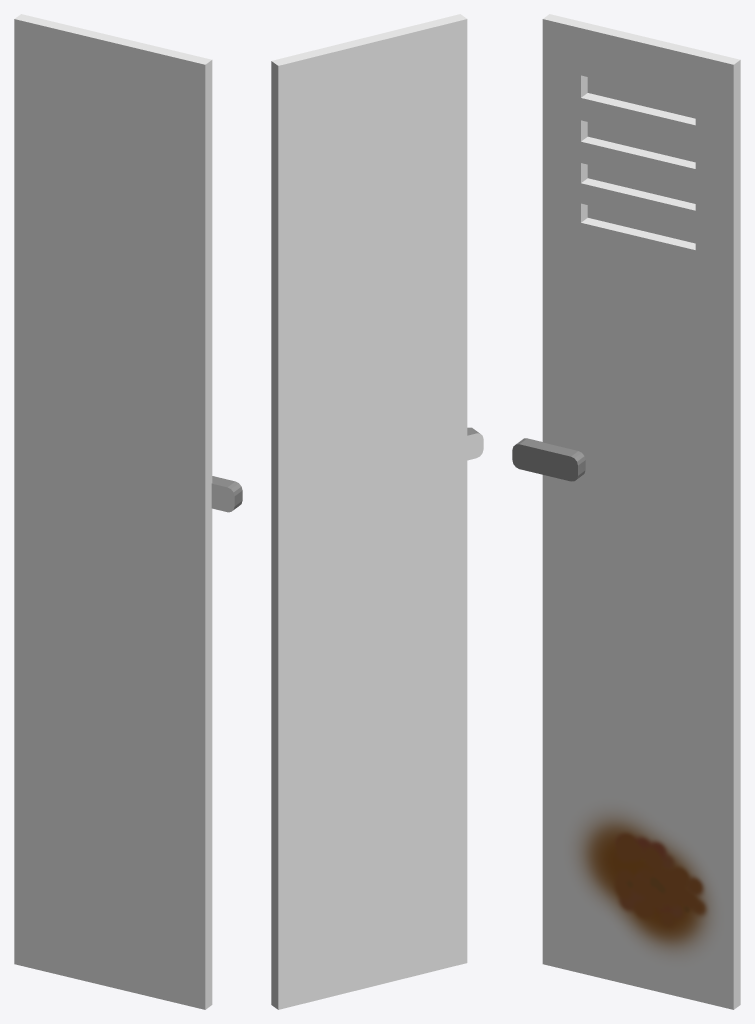
The model's file is Lockers for changing rooms door.fbx.
3 views of the same model, side by side, from view 1: azimuth 90°, elevation 25°; view 2: azimuth 150°, elevation 25°; view 3: azimuth 270°, elevation 25° (orthographic).
Parts seen in each view (by area): view 1: Lockers for changing rooms door; view 2: Lockers for changing rooms door; view 3: Lockers for changing rooms door.
Boxes of the visible parts, x1,y1,x2,y2 form: Lockers for changing rooms door: [14, 14, 242, 1009]; Lockers for changing rooms door: [271, 14, 483, 1009]; Lockers for changing rooms door: [512, 14, 740, 1009].
Size of the model in its own units: 44.5 by 380 by 83.13.
